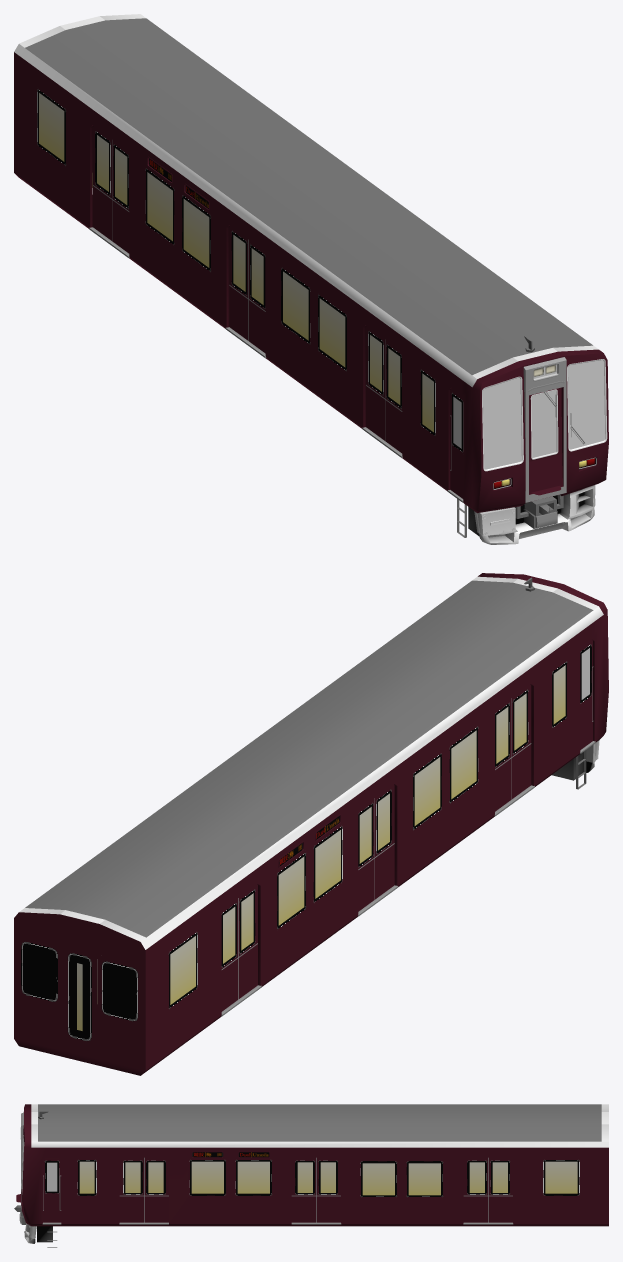
3 views of the same model, one above another, from view 1: azimuth 30°, elevation 25°; view 2: azimuth 150°, elevation 25°; view 3: azimuth 270°, elevation 25° (orthographic). The views are drawn at different scales.
Visible parts, largest first — view 1: in_light; view 2: in_light; view 3: in_light.
Boxes of the visible parts, x1,y1,x2,y2 form: in_light: [14, 14, 608, 544]; in_light: [14, 573, 608, 1075]; in_light: [14, 1104, 608, 1247].
Bounding box in the file's own units: 6.3 × 8.56 × 38.73.
Materials: 18 (16 with a texture image).
